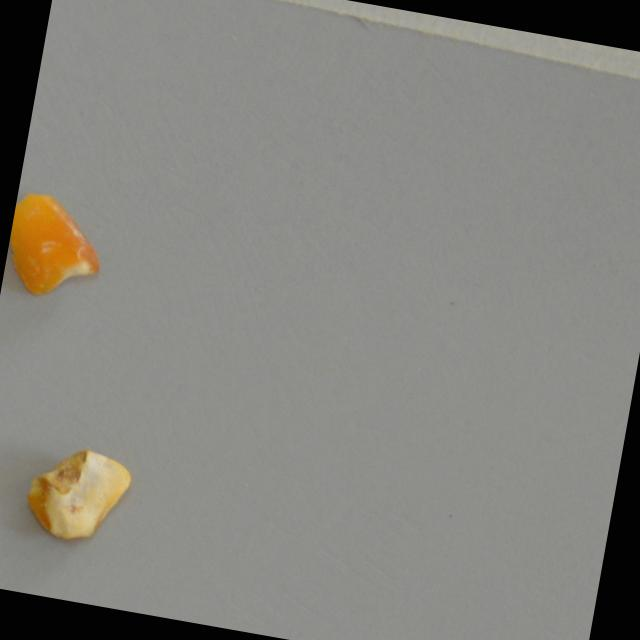dañado: (16, 429, 140, 558), (0, 183, 115, 308)
